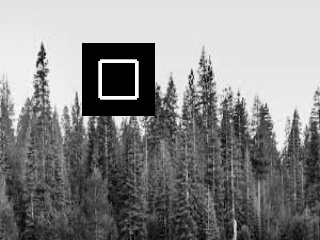square: (82, 43, 155, 116)
